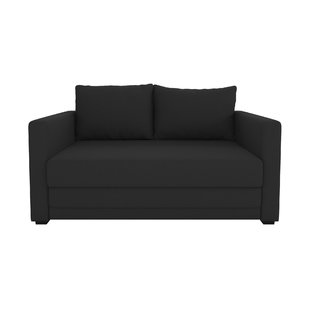chairs: (26, 78, 285, 228)
